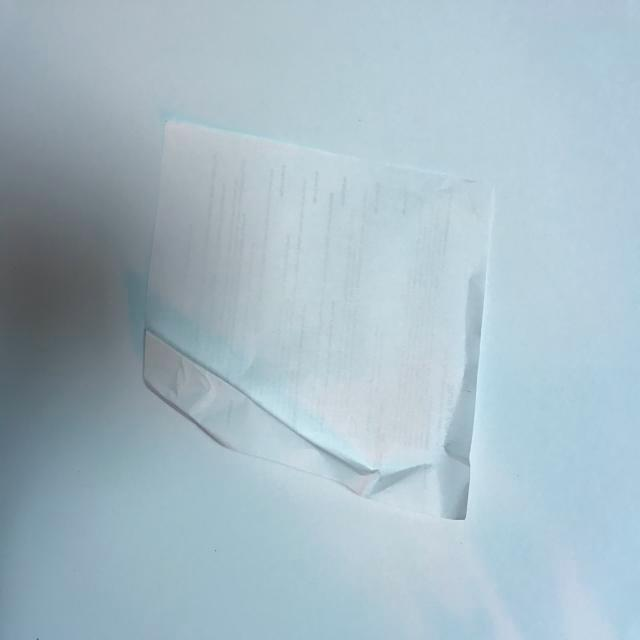paper: (142, 118, 494, 518)
